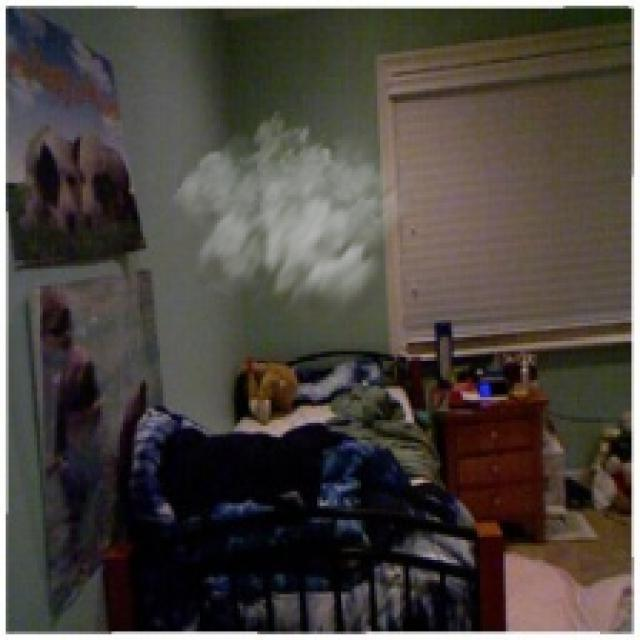smoke: (160, 108, 420, 343)
